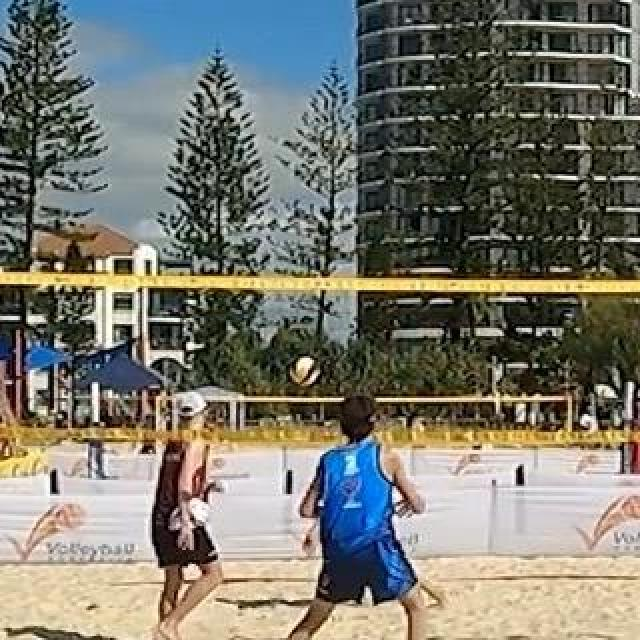volleyball: (292, 356, 318, 382)
